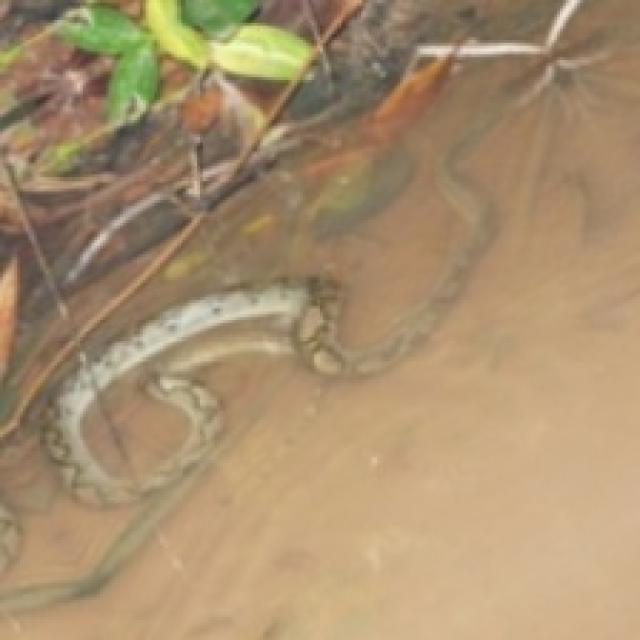reticulated python: (0, 49, 611, 611)
